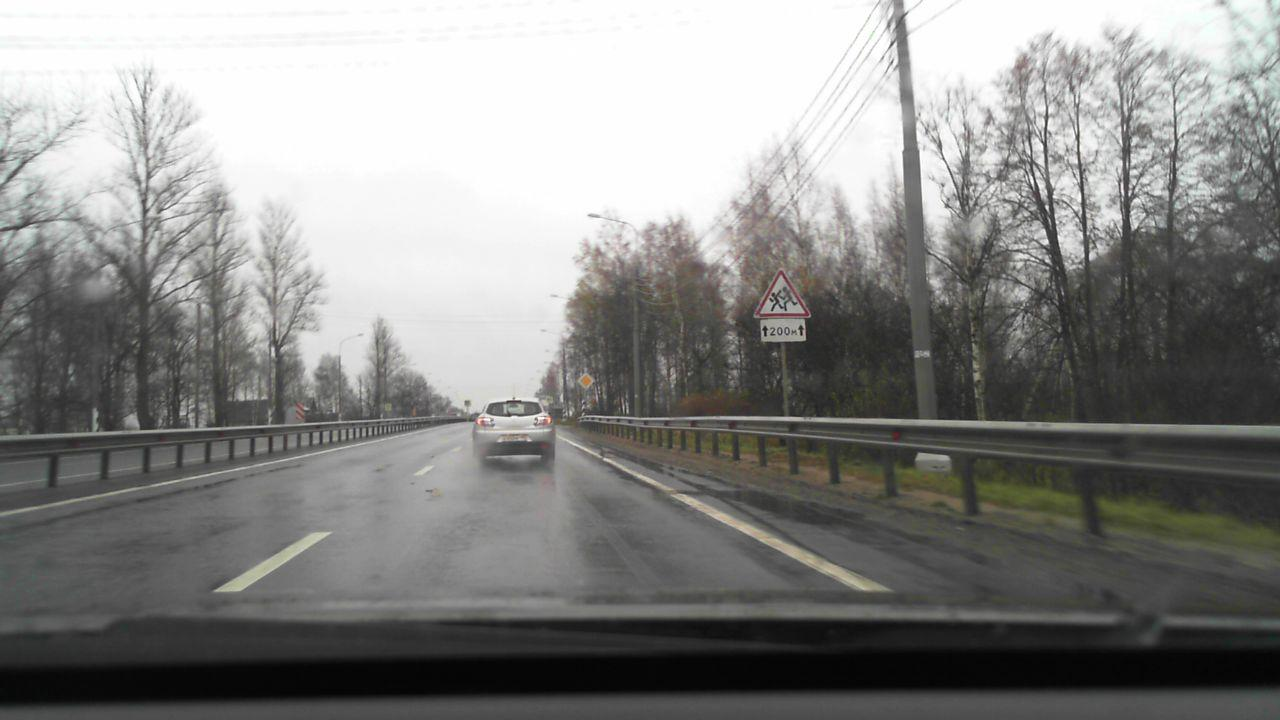1_23: (747, 268, 810, 318)
2_1: (578, 371, 597, 389)
8_2_1: (760, 319, 806, 342)
